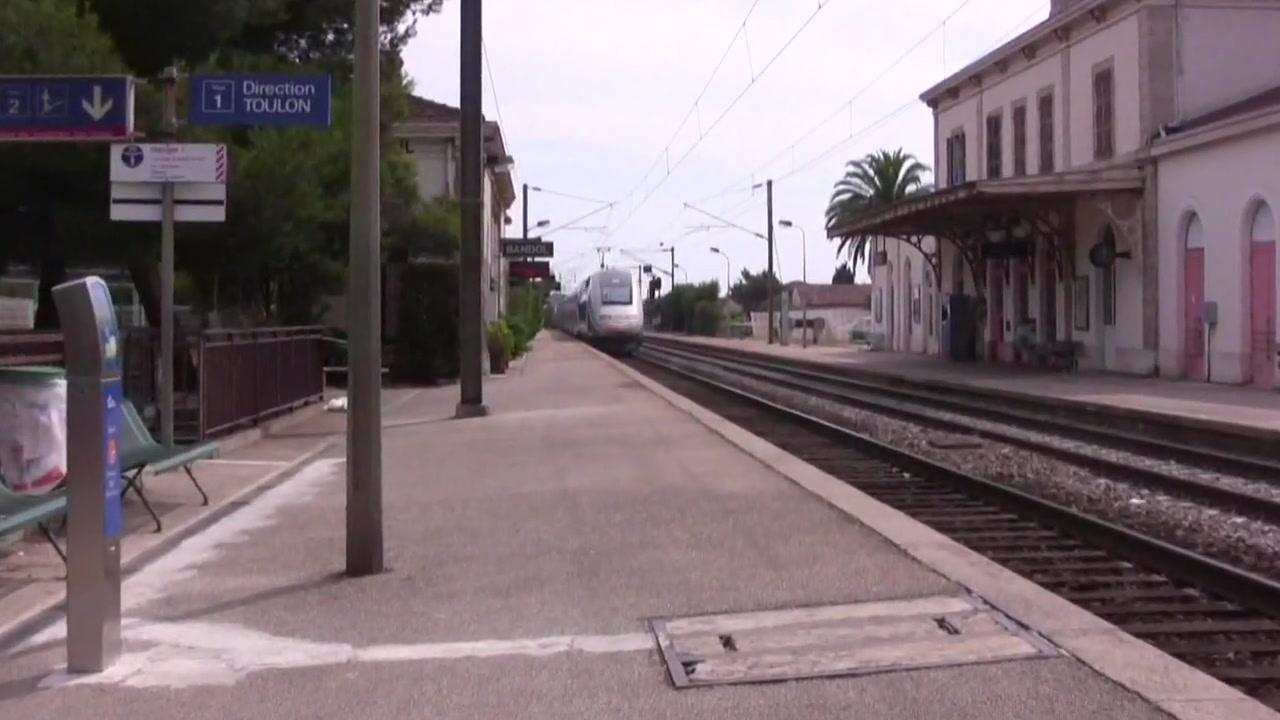train: (548, 261, 649, 349)
